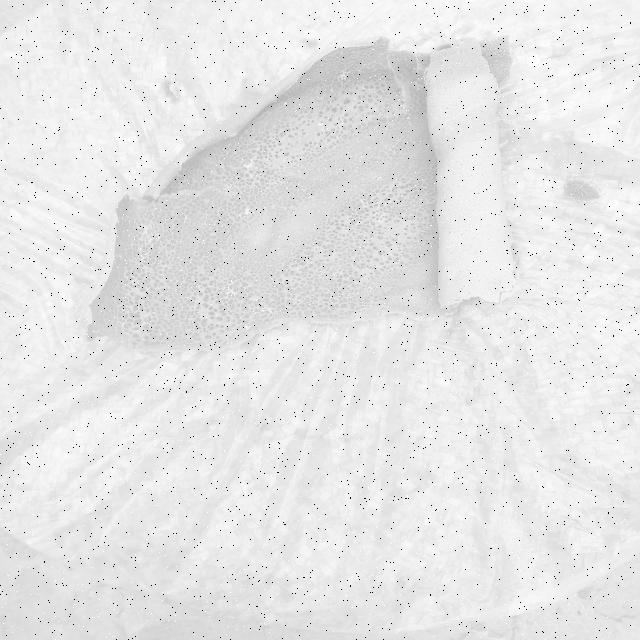injera_mold: (136, 220, 163, 247), (218, 276, 239, 300), (125, 322, 154, 337), (370, 210, 389, 225), (254, 303, 274, 317), (242, 157, 257, 174), (221, 183, 240, 196), (334, 68, 351, 82), (444, 264, 459, 279), (121, 272, 135, 286), (357, 198, 372, 210), (160, 247, 175, 258), (124, 289, 140, 299), (152, 197, 164, 210), (127, 256, 142, 266), (239, 321, 254, 331), (409, 81, 424, 91), (178, 211, 190, 221), (241, 207, 254, 216), (271, 177, 282, 187), (372, 174, 383, 183), (124, 239, 136, 246), (316, 121, 324, 129), (281, 100, 289, 107), (268, 204, 277, 210)
